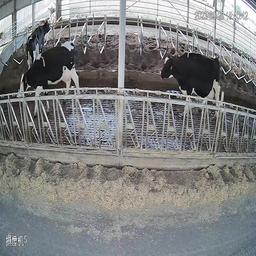cow: (145, 49, 210, 112), (9, 44, 65, 113), (25, 17, 52, 65)
